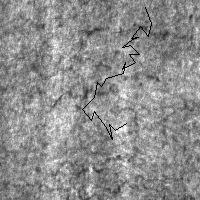crazing: (10, 15, 172, 109), (1, 140, 185, 199), (82, 7, 151, 139)
